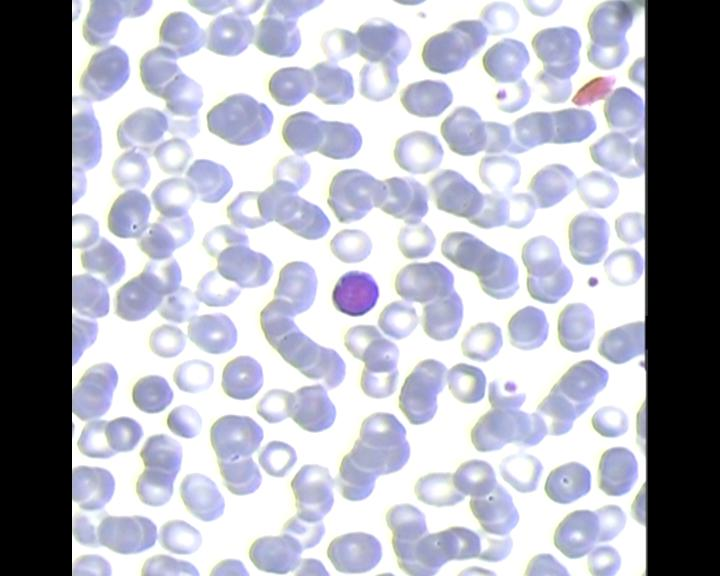lymp: (328, 269, 380, 317)
